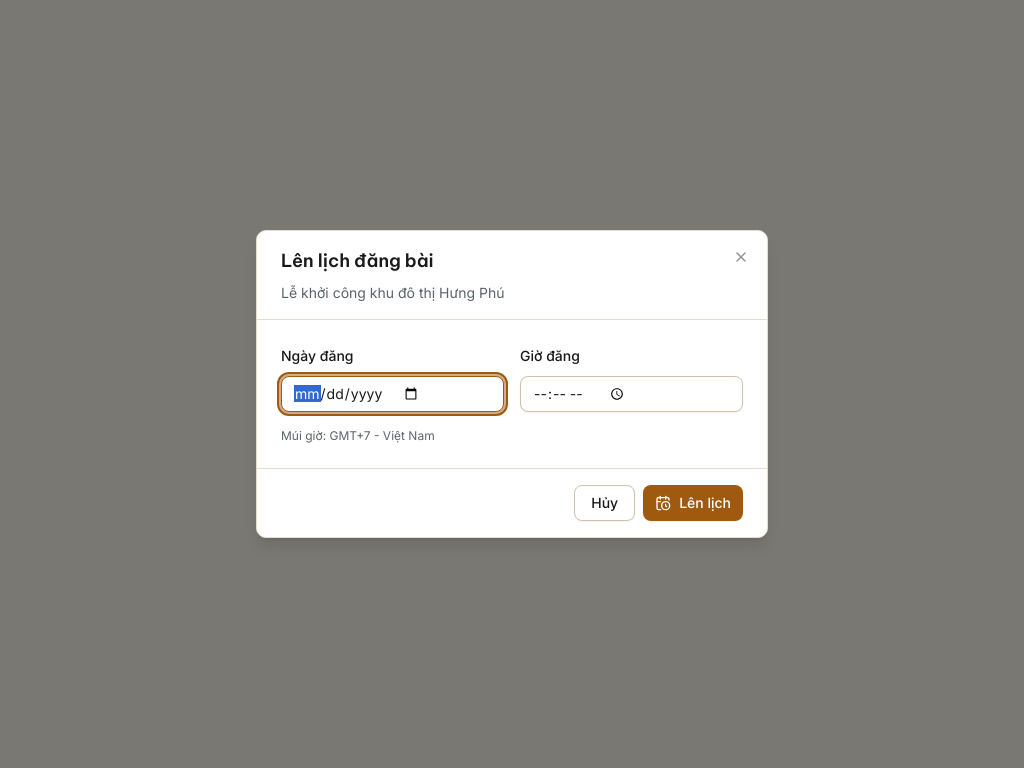
Scenario: SchedulePublishDialog — nhập và gửi › thiếu ngày: không gọi API, báo lỗi và đánh dấu ô ngày
Expected: the dialog is shown, [256,230,768,538]
Step 1. Type "08:00" into the time field labelled "Giờ đăng" → (632, 394), box [520,376,743,412]
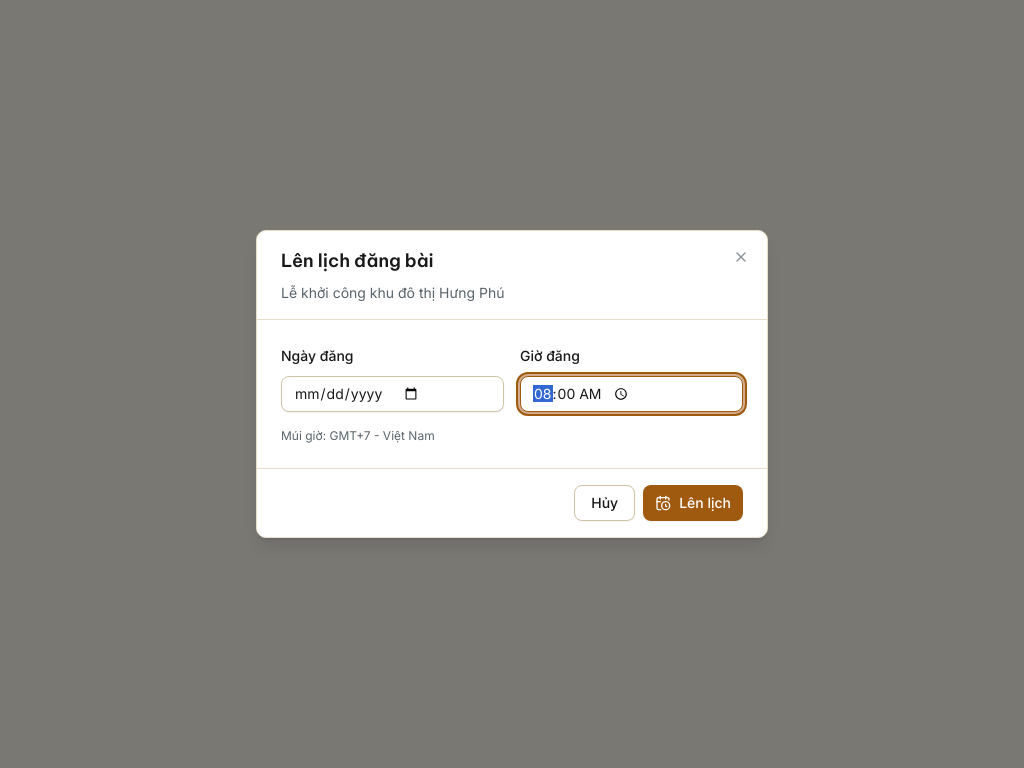
Step 2. Click the button "Lên lịch" → (693, 503), box [643,485,743,521]
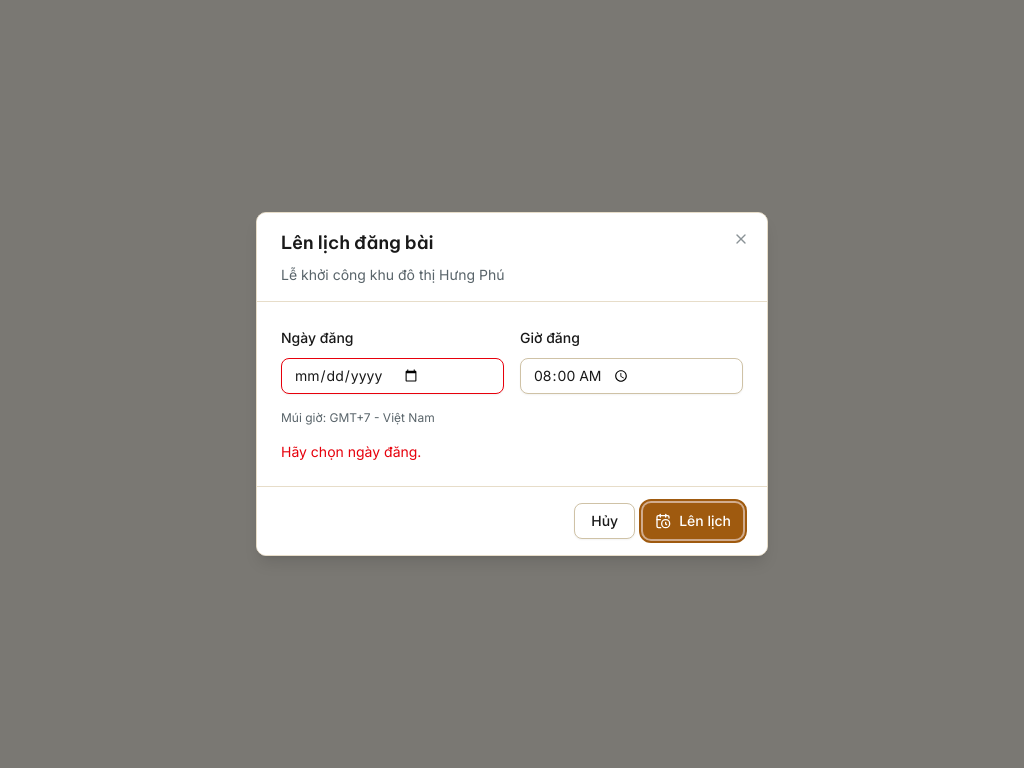
Now the message reads "Hãy chọn ngày đăng.", box [281,443,421,460]
